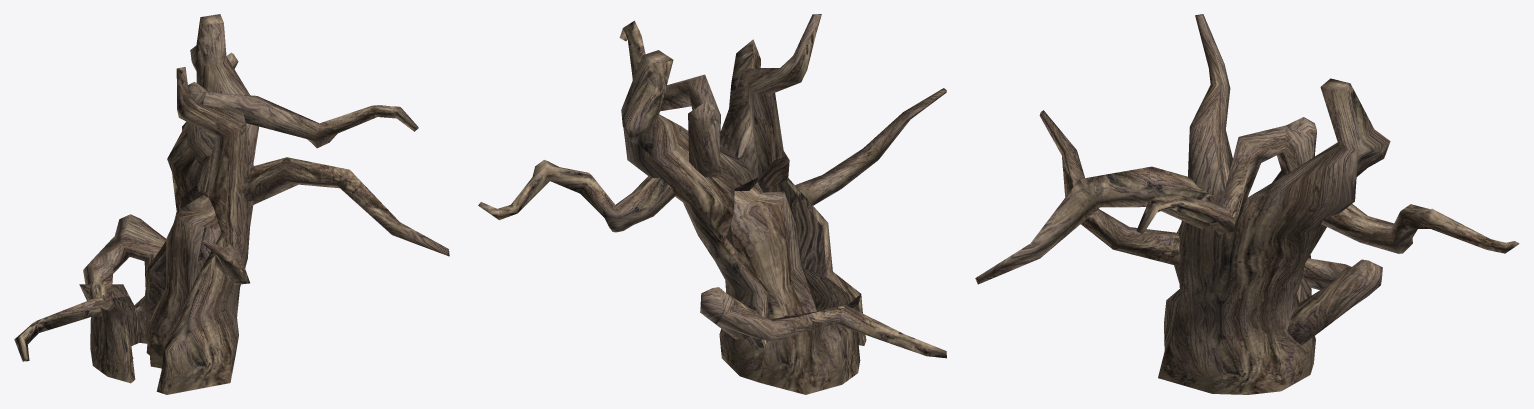
File: kushu_xb_41.FBX
The picture shows the model from 3 angles, left to right: view 1: azimuth 30°, elevation 25°; view 2: azimuth 150°, elevation 25°; view 3: azimuth 270°, elevation 25°; orthographic projection. The views are drawn at different scales.
Parts seen in each view (by area): view 1: kushu_xb_41; view 2: kushu_xb_41; view 3: kushu_xb_41.
Part boxes in pixels (bbox=[...]): kushu_xb_41: bbox=[14, 14, 449, 394]; kushu_xb_41: bbox=[478, 14, 946, 394]; kushu_xb_41: bbox=[975, 14, 1519, 394].
Size of what is drawn, in the model's own units: 277 by 233 by 331.
